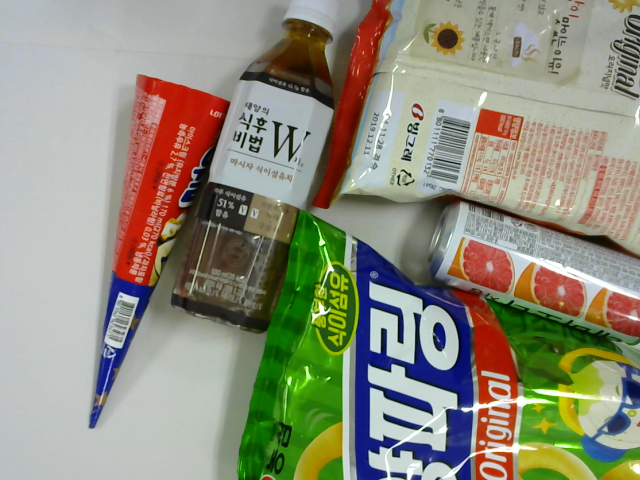Crabrang: (309, 1, 640, 255)
Demisoda_Grapefruit_Can_250ml: (426, 201, 640, 345)
Oninon_Ring: (236, 212, 640, 480)
Post-meal_recipe_W_tea_500ml: (173, 1, 338, 335)
World_Cone_Banila: (89, 73, 233, 427)
